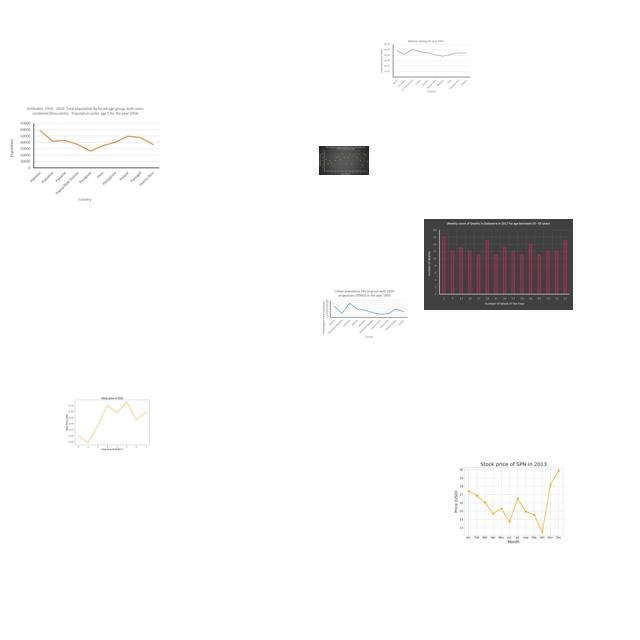Graph: (9, 106, 161, 203), (424, 219, 573, 310), (448, 453, 576, 549), (63, 389, 159, 455), (380, 39, 472, 93), (321, 288, 409, 339), (319, 146, 369, 175)
